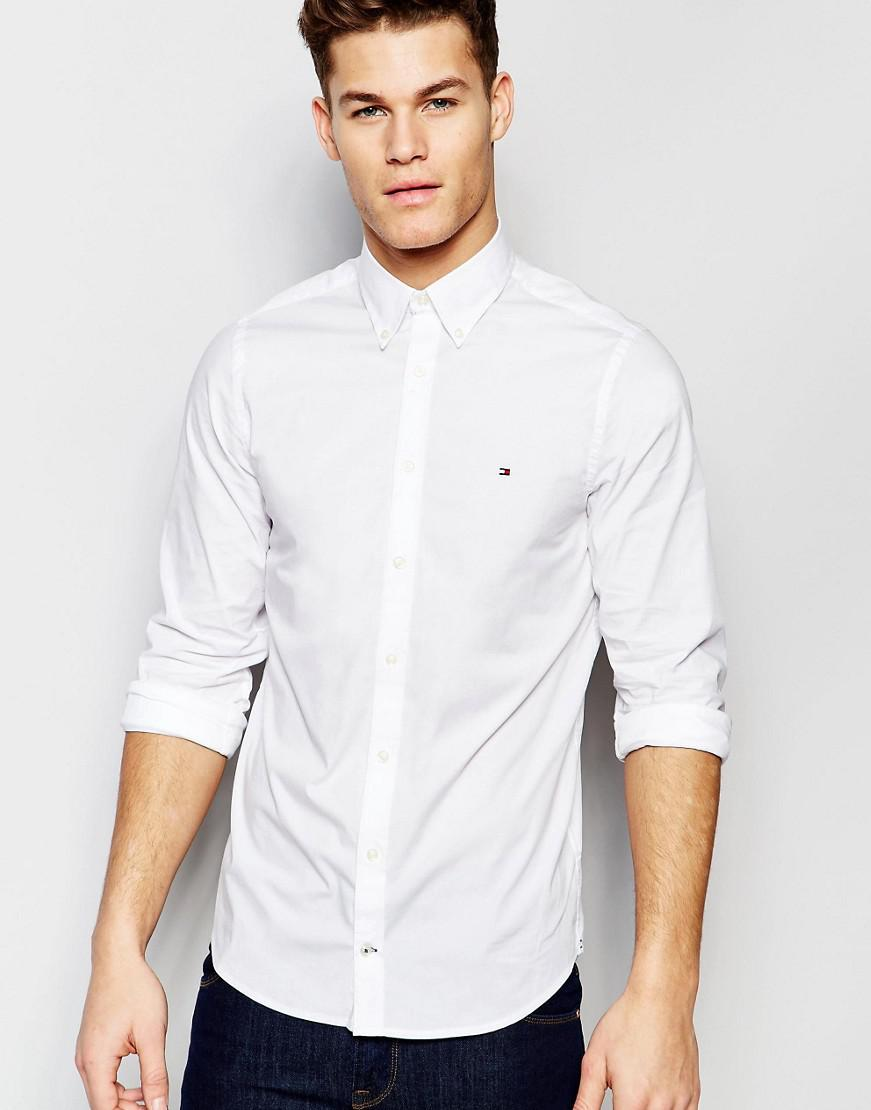teeshirt: (113, 217, 744, 1052)
